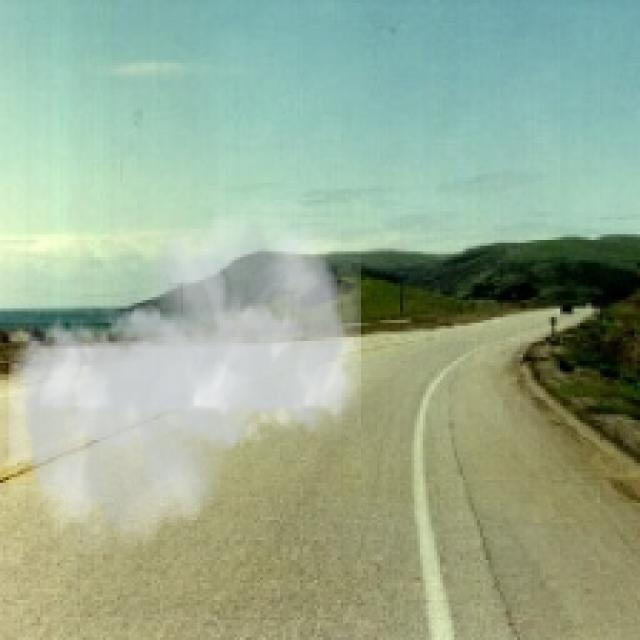smoke: (9, 200, 360, 554)
